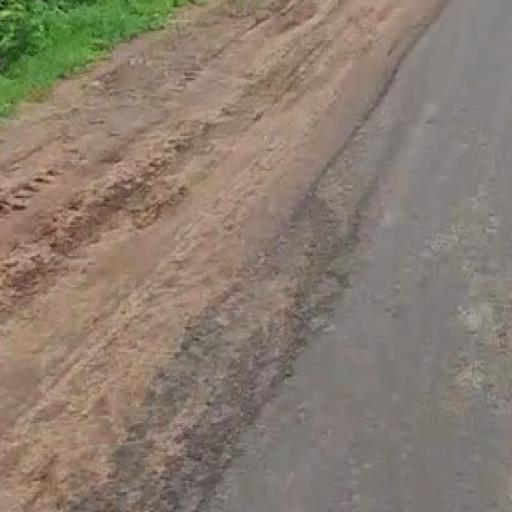edge_damage: (77, 184, 355, 502)
